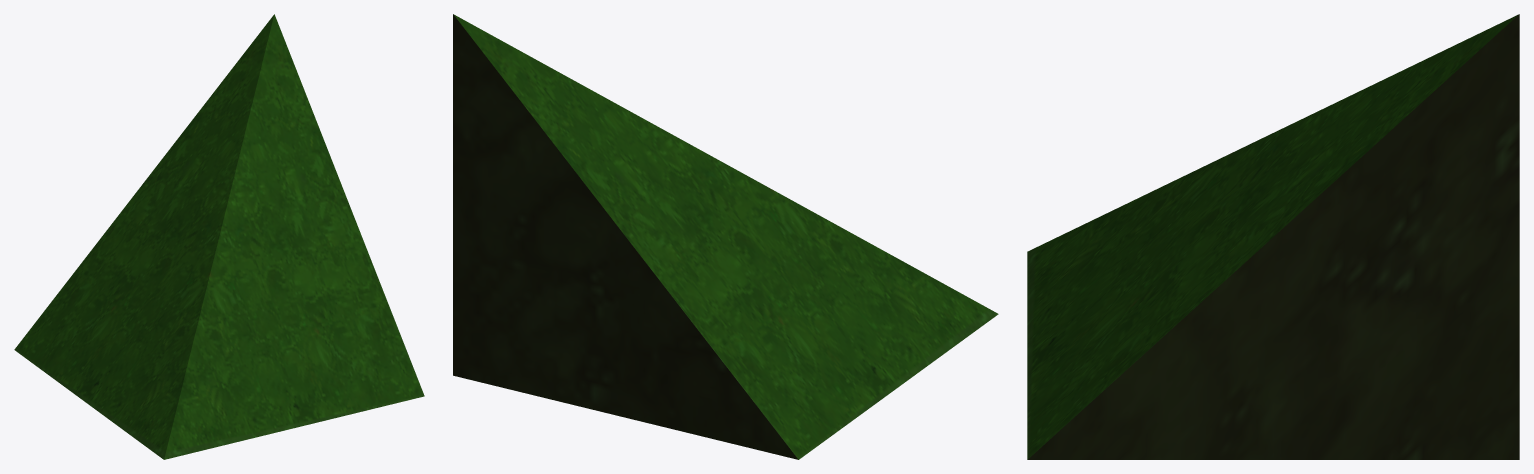
Rendered from angle.glb.
3 views of the same model, side by side, from view 1: azimuth 30°, elevation 25°; view 2: azimuth 150°, elevation 25°; view 3: azimuth 270°, elevation 25° (orthographic). The views are drawn at different scales.
Parts seen in each view (by area): view 1: angle; view 2: angle; view 3: angle.
Part boxes in pixels (x1=…): angle: x1=14, y1=14, x2=424, y2=459; angle: x1=453, y1=14, x2=998, y2=459; angle: x1=1027, y1=14, x2=1519, y2=459.
Bounding box in the file's own units: 1 × 1 × 1.
1 material, 1 textured.
